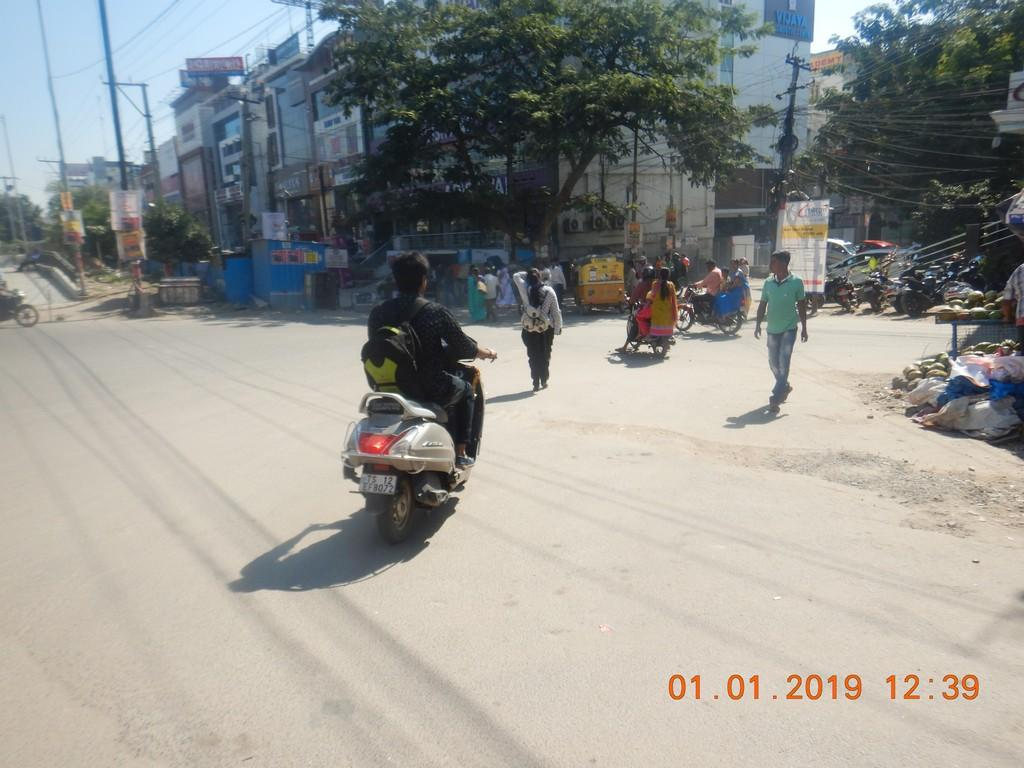plate: (357, 473, 400, 497)
